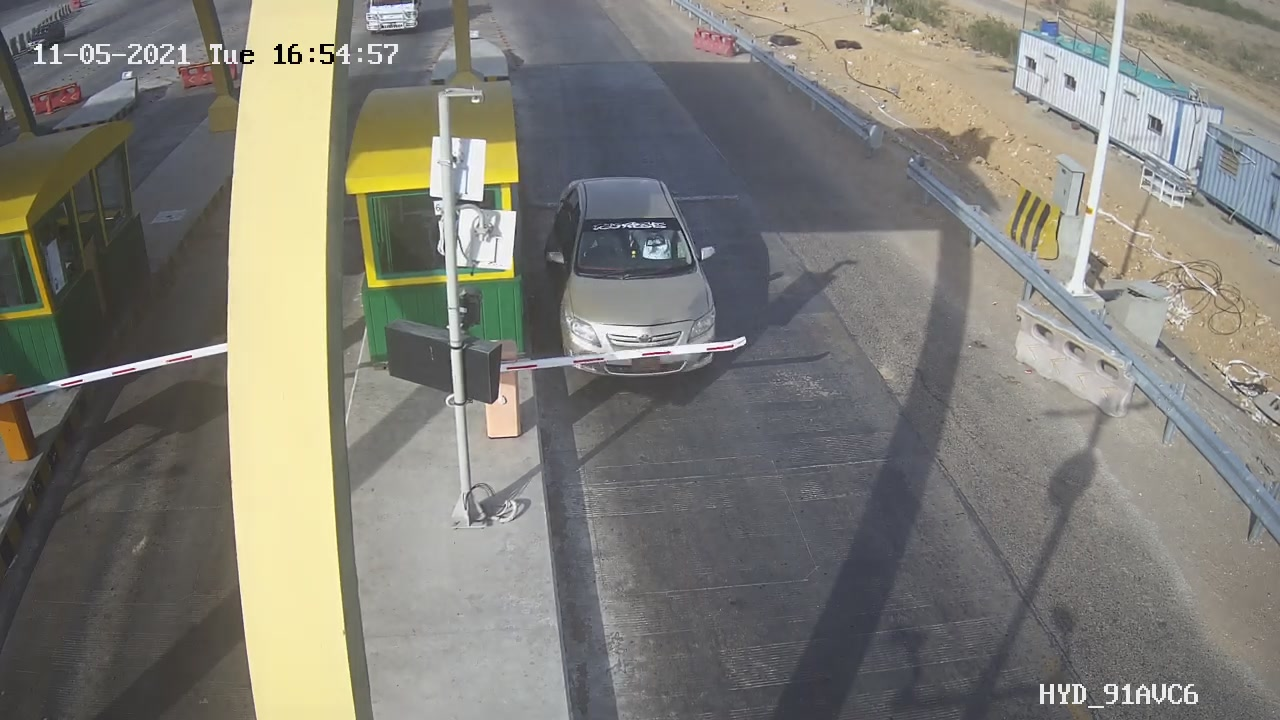F1: (530, 160, 743, 401)
